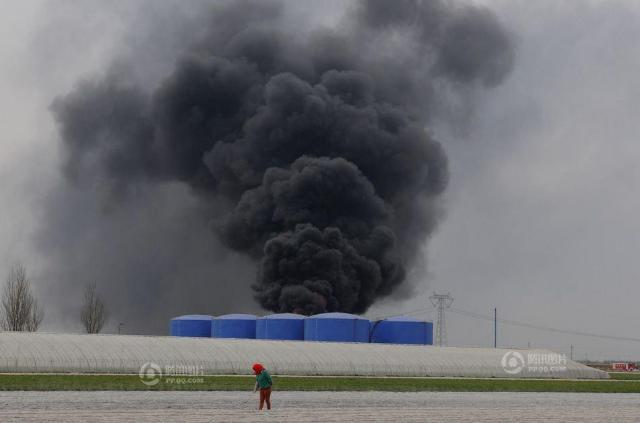smoke: (158, 2, 518, 183), (194, 185, 438, 312), (49, 67, 158, 174)
